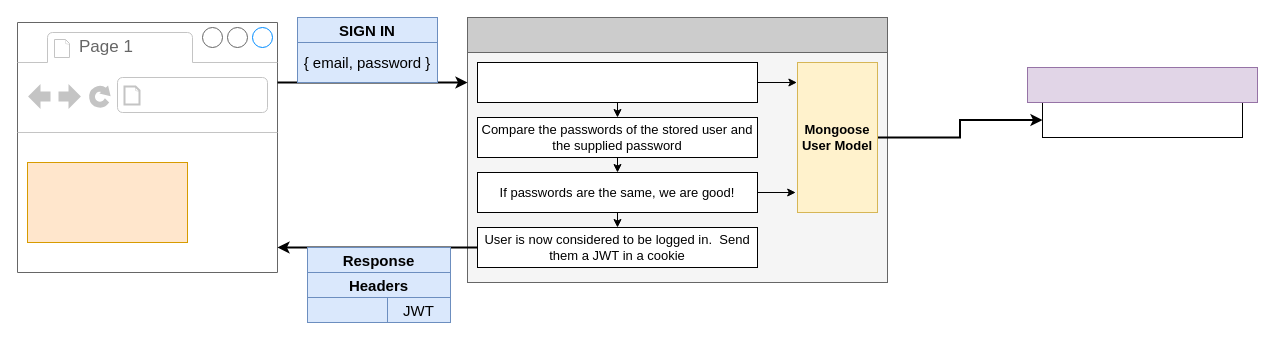
This 1275x340 diagram has some shape labels left out. Each missing label, with the box of its shape:
Auth Service: (466, 16, 888, 52)
Does a user with this email already exist? If so, respond with error: (476, 62, 758, 102)
MongoDB: (1026, 66, 1258, 102)
React App: (26, 162, 188, 242)
Set-Cookie: (306, 296, 388, 322)
